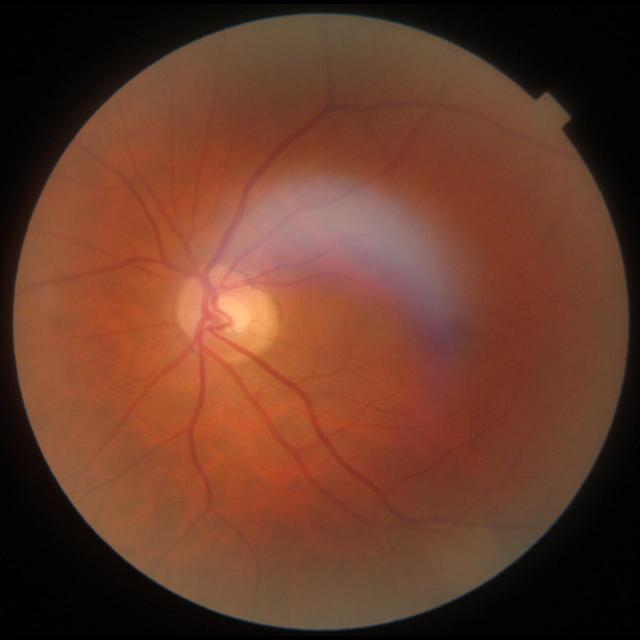OC: (211, 293, 249, 332)
OD: (176, 270, 280, 364)
